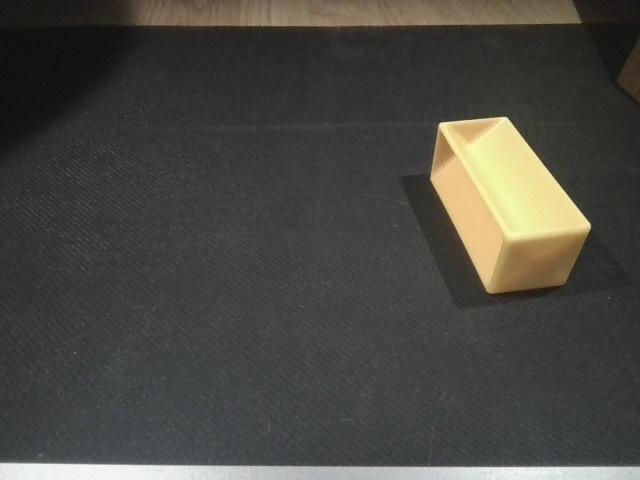YellowSample: (423, 112, 595, 310)
